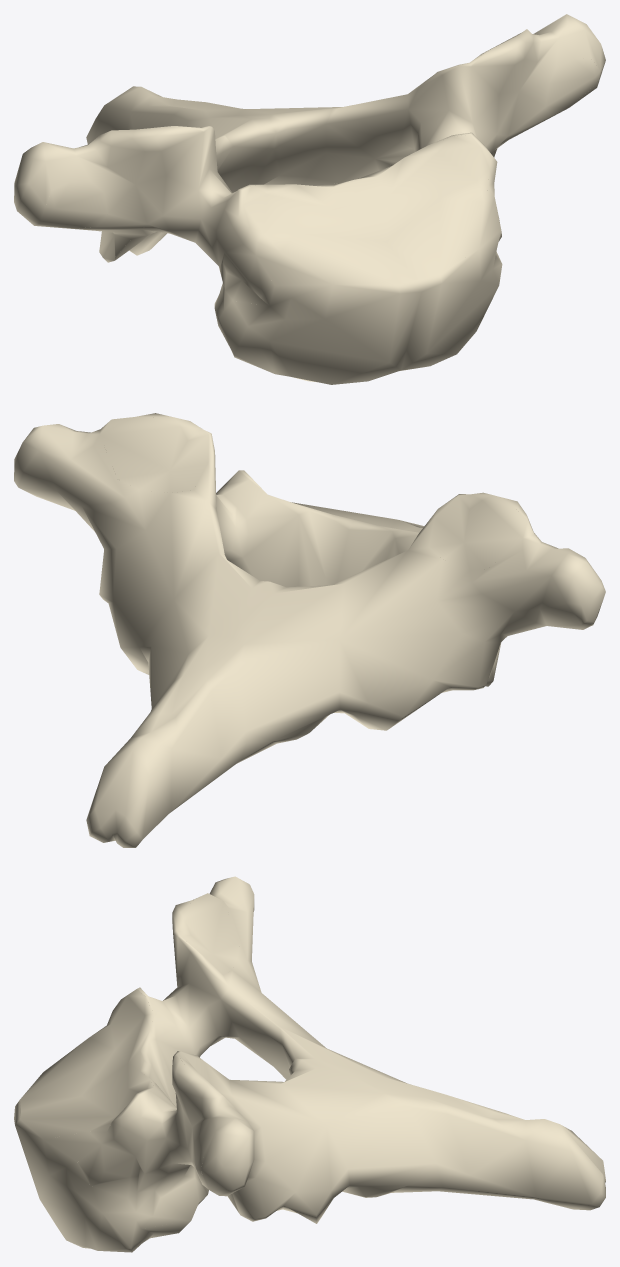
File: esqueleto-vertebra-t1.glb
3 renders of one model, top to bottom at view 1: azimuth 30°, elevation 25°; view 2: azimuth 150°, elevation 25°; view 3: azimuth 270°, elevation 25°, orthographic. The views are drawn at different scales.
Visible parts, largest first — view 1: Vertebra T1; view 2: Vertebra T1; view 3: Vertebra T1.
Boxes of the visible parts, x1,y1,x2,y2 form: Vertebra T1: (14,14,605,384); Vertebra T1: (14,413,605,847); Vertebra T1: (14,876,605,1252).
Bounding box in the file's own units: 0.0776 × 0.0307 × 0.0722.
